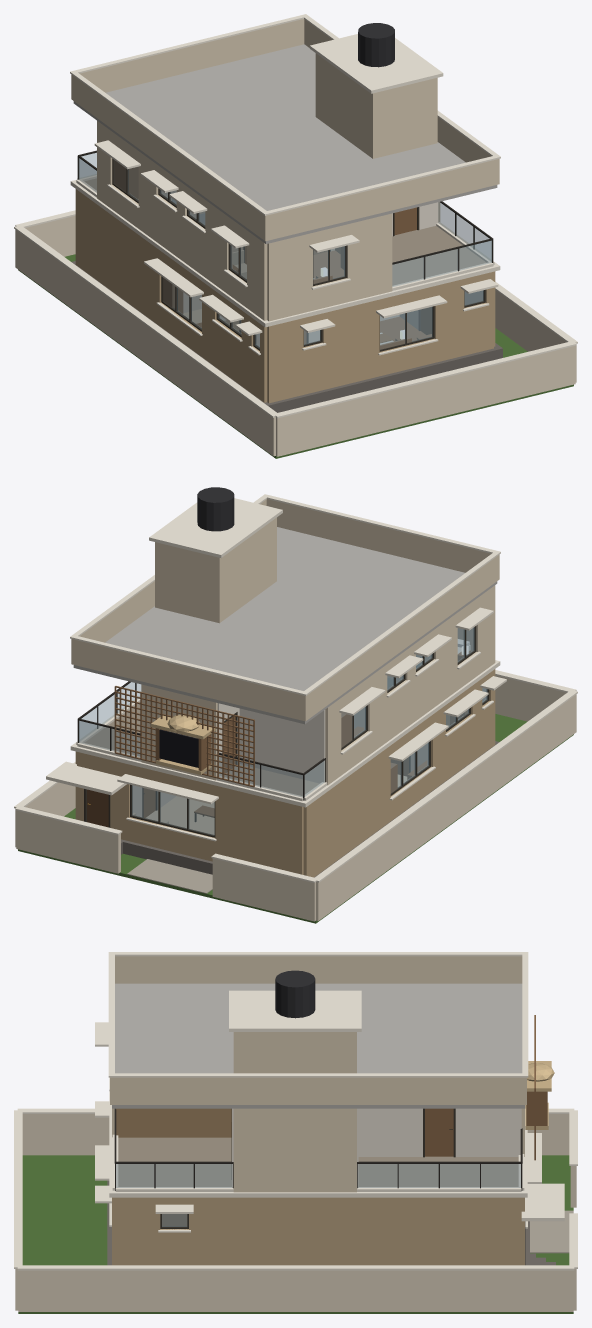
The model's file is house0.glb.
3 views of the same model, one above another, from view 1: azimuth 30°, elevation 25°; view 2: azimuth 150°, elevation 25°; view 3: azimuth 270°, elevation 25° (orthographic). The views are drawn at different scales.
Visible parts, largest first — view 1: roof__roof_screed, roof__plaster, level_0__structure__stone_cladding, site__compound_wall, level_1__structure__plaster, roof__concrete_band, level_1__structure__concrete_band, site__concrete_band, level_1__structure__railing_glass, level_1__floors__floor_outdoor, level_0__structure__glass, site__plinth_stone (+14 smaller); view 2: roof__roof_screed, roof__plaster, level_0__structure__stone_cladding, site__compound_wall, level_1__structure__plaster, roof__concrete_band, level_1__structure__concrete_band, level_1__facade__joinery, level_1__structure__paint_circulation, site__concrete_band, level_1__structure__railing_glass, level_0__structure__glass (+17 smaller); view 3: site__compound_wall, roof__roof_screed, roof__plaster, level_0__structure__stone_cladding, site__lawn, level_1__structure__plaster, roof__concrete_band, level_1__floors__floor_outdoor, level_1__structure__paint_circulation, level_1__structure__railing_glass, site__concrete_band, level_1__structure__concrete_band (+10 smaller).
Part boxes in pixels (left/top/right/bottom): roof__roof_screed: left=73, top=44, right=497, bottom=243; roof__plaster: left=71, top=19, right=499, bottom=241; level_0__structure__stone_cladding: left=75, top=189, right=495, bottom=403; site__compound_wall: left=15, top=215, right=576, bottom=456; level_1__structure__plaster: left=97, top=121, right=440, bottom=321; roof__concrete_band: left=70, top=14, right=500, bottom=215; level_1__structure__concrete_band: left=70, top=140, right=500, bottom=327; site__concrete_band: left=14, top=210, right=577, bottom=418; level_1__structure__railing_glass: left=79, top=153, right=491, bottom=286; level_1__floors__floor_outdoor: left=84, top=178, right=486, bottom=285; level_0__structure__glass: left=163, top=278, right=483, bottom=349; site__plinth_stone: left=71, top=261, right=502, bottom=412; roof__roof_screed: left=73, top=527, right=497, bottom=724; roof__plaster: left=71, top=499, right=499, bottom=721; level_0__structure__stone_cladding: left=75, top=669, right=495, bottom=877; site__compound_wall: left=15, top=675, right=576, bottom=921; level_1__structure__plaster: left=141, top=585, right=495, bottom=785; roof__concrete_band: left=70, top=494, right=500, bottom=695; level_1__structure__concrete_band: left=70, top=607, right=500, bottom=807; level_1__facade__joinery: left=114, top=686, right=254, bottom=787; level_1__structure__paint_circulation: left=217, top=703, right=325, bottom=783; site__concrete_band: left=14, top=670, right=577, bottom=882; level_1__structure__railing_glass: left=79, top=682, right=324, bottom=797; level_0__structure__glass: left=132, top=688, right=487, bottom=835; site__compound_wall: left=15, top=1114, right=576, bottom=1311; roof__roof_screed: left=112, top=983, right=525, bottom=1108; roof__plaster: left=110, top=956, right=526, bottom=1104; level_0__structure__stone_cladding: left=112, top=1197, right=524, bottom=1265; site__lawn: left=18, top=1155, right=573, bottom=1313; level_1__structure__plaster: left=112, top=1108, right=524, bottom=1192; roof__concrete_band: left=108, top=952, right=528, bottom=1077; level_1__floors__floor_outdoor: left=118, top=1137, right=518, bottom=1186; level_1__structure__paint_circulation: left=232, top=1108, right=521, bottom=1187; level_1__structure__railing_glass: left=116, top=1164, right=520, bottom=1187; site__concrete_band: left=14, top=1108, right=577, bottom=1270; level_1__structure__concrete_band: left=95, top=1022, right=527, bottom=1197.
Size of the model in its own units: 12.28 by 10.69 by 18.28.
